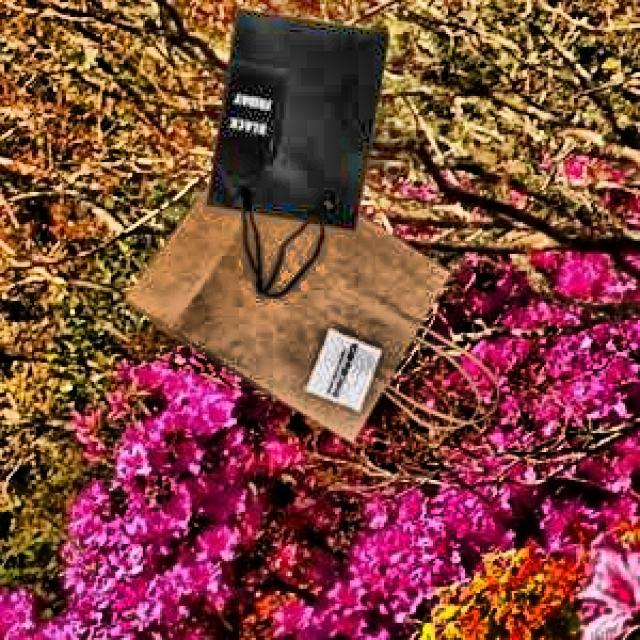Paper-bag: (106, 145, 502, 456), (206, 5, 407, 301)
